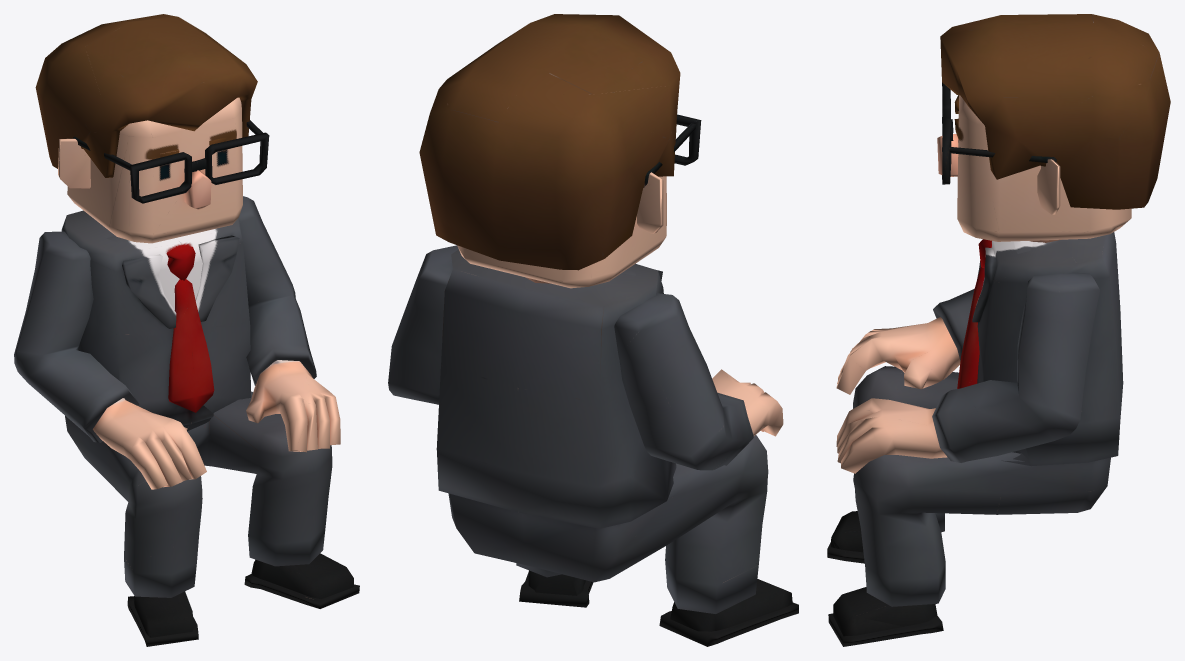
File: pax_m2.glb
The picture shows the model from 3 angles, left to right: view 1: azimuth 30°, elevation 25°; view 2: azimuth 150°, elevation 25°; view 3: azimuth 270°, elevation 25°; orthographic projection. The views are drawn at different scales.
Visible parts, largest first — view 1: geometry_0; view 2: geometry_0; view 3: geometry_0.
Boxes of the visible parts, bbox=[...] form: geometry_0: bbox=[14, 14, 359, 646]; geometry_0: bbox=[388, 14, 798, 646]; geometry_0: bbox=[827, 14, 1170, 646].
Size of the model in its own units: 0.5635 by 0.9999 by 0.5535.
1 material, 1 textured.
